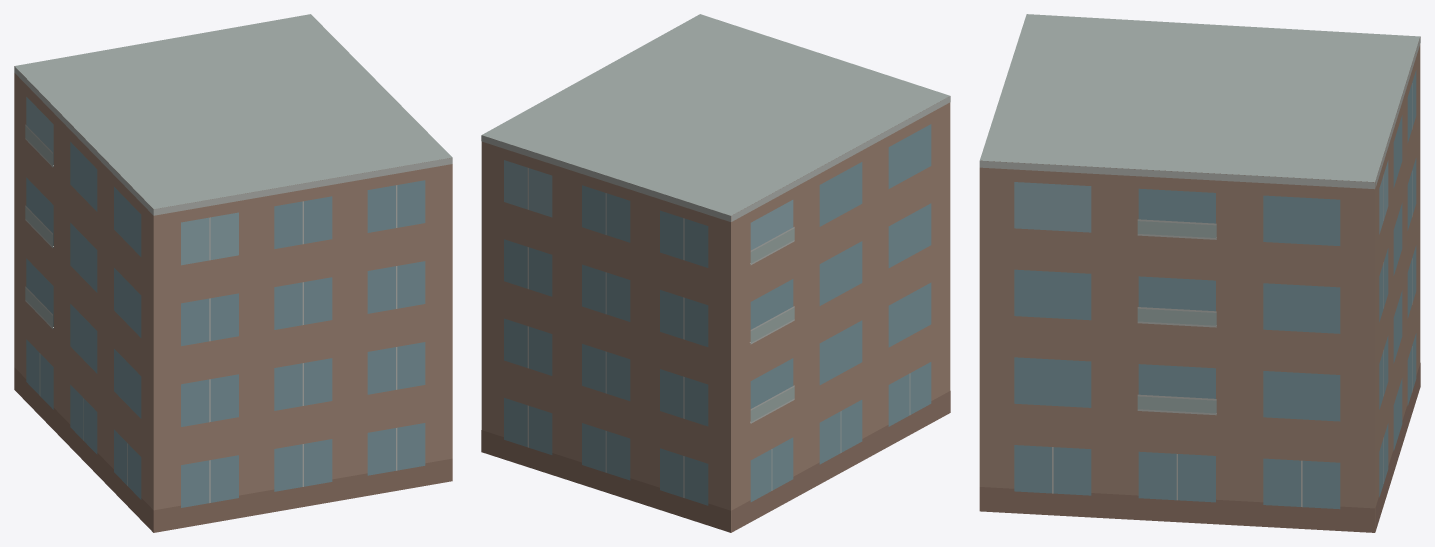
File: residential-ffc58907-6abd-4e97-8aad-9d5ab97ff3e7.glb
3 views of the same model, side by side, from view 1: azimuth 30°, elevation 25°; view 2: azimuth 150°, elevation 25°; view 3: azimuth 270°, elevation 25° (orthographic). The views are drawn at different scales.
Visible parts, largest first — view 1: residential-ffc58907-6abd-4e97-8aad-9d5ab97ff3e7.tmp; view 2: residential-ffc58907-6abd-4e97-8aad-9d5ab97ff3e7.tmp; view 3: residential-ffc58907-6abd-4e97-8aad-9d5ab97ff3e7.tmp.
Boxes of the visible parts, bbox=[...] form: residential-ffc58907-6abd-4e97-8aad-9d5ab97ff3e7.tmp: bbox=[14, 14, 452, 532]; residential-ffc58907-6abd-4e97-8aad-9d5ab97ff3e7.tmp: bbox=[481, 14, 950, 532]; residential-ffc58907-6abd-4e97-8aad-9d5ab97ff3e7.tmp: bbox=[979, 14, 1420, 532].
Size of the model in its own units: 12.56 by 12.2 by 13.9.
